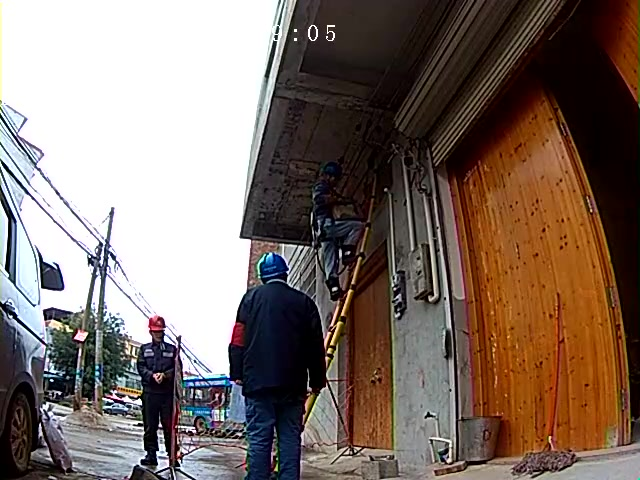badge: (231, 322, 248, 348)
downsuit: (240, 386, 307, 480), (142, 394, 178, 464), (316, 219, 358, 278)
halt: (257, 253, 290, 284), (318, 162, 342, 184)
hand: (151, 371, 166, 384)
person: (226, 252, 321, 480), (135, 312, 185, 474), (310, 162, 367, 302)
shoe: (324, 275, 348, 301), (339, 243, 358, 266)
upcloth: (226, 284, 325, 390)
upsuit: (138, 336, 181, 389), (310, 186, 339, 221)
